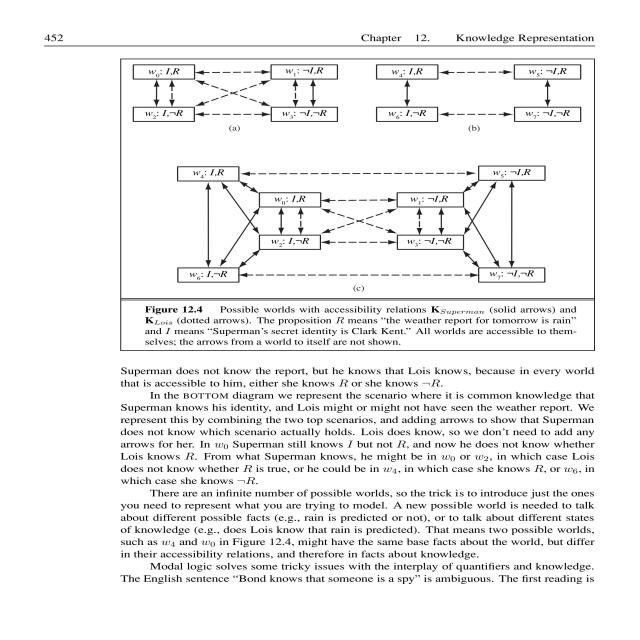diagram: (121, 58, 592, 350)
